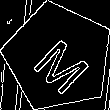M_NE: (24, 23, 93, 92)
